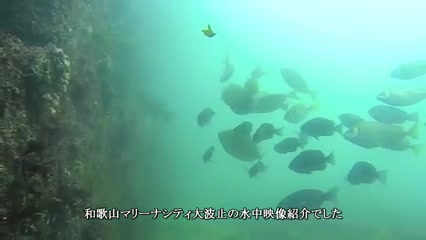smallfish: (283, 142, 342, 175), (346, 155, 392, 189), (300, 112, 347, 144), (271, 130, 315, 159), (251, 119, 290, 146)
